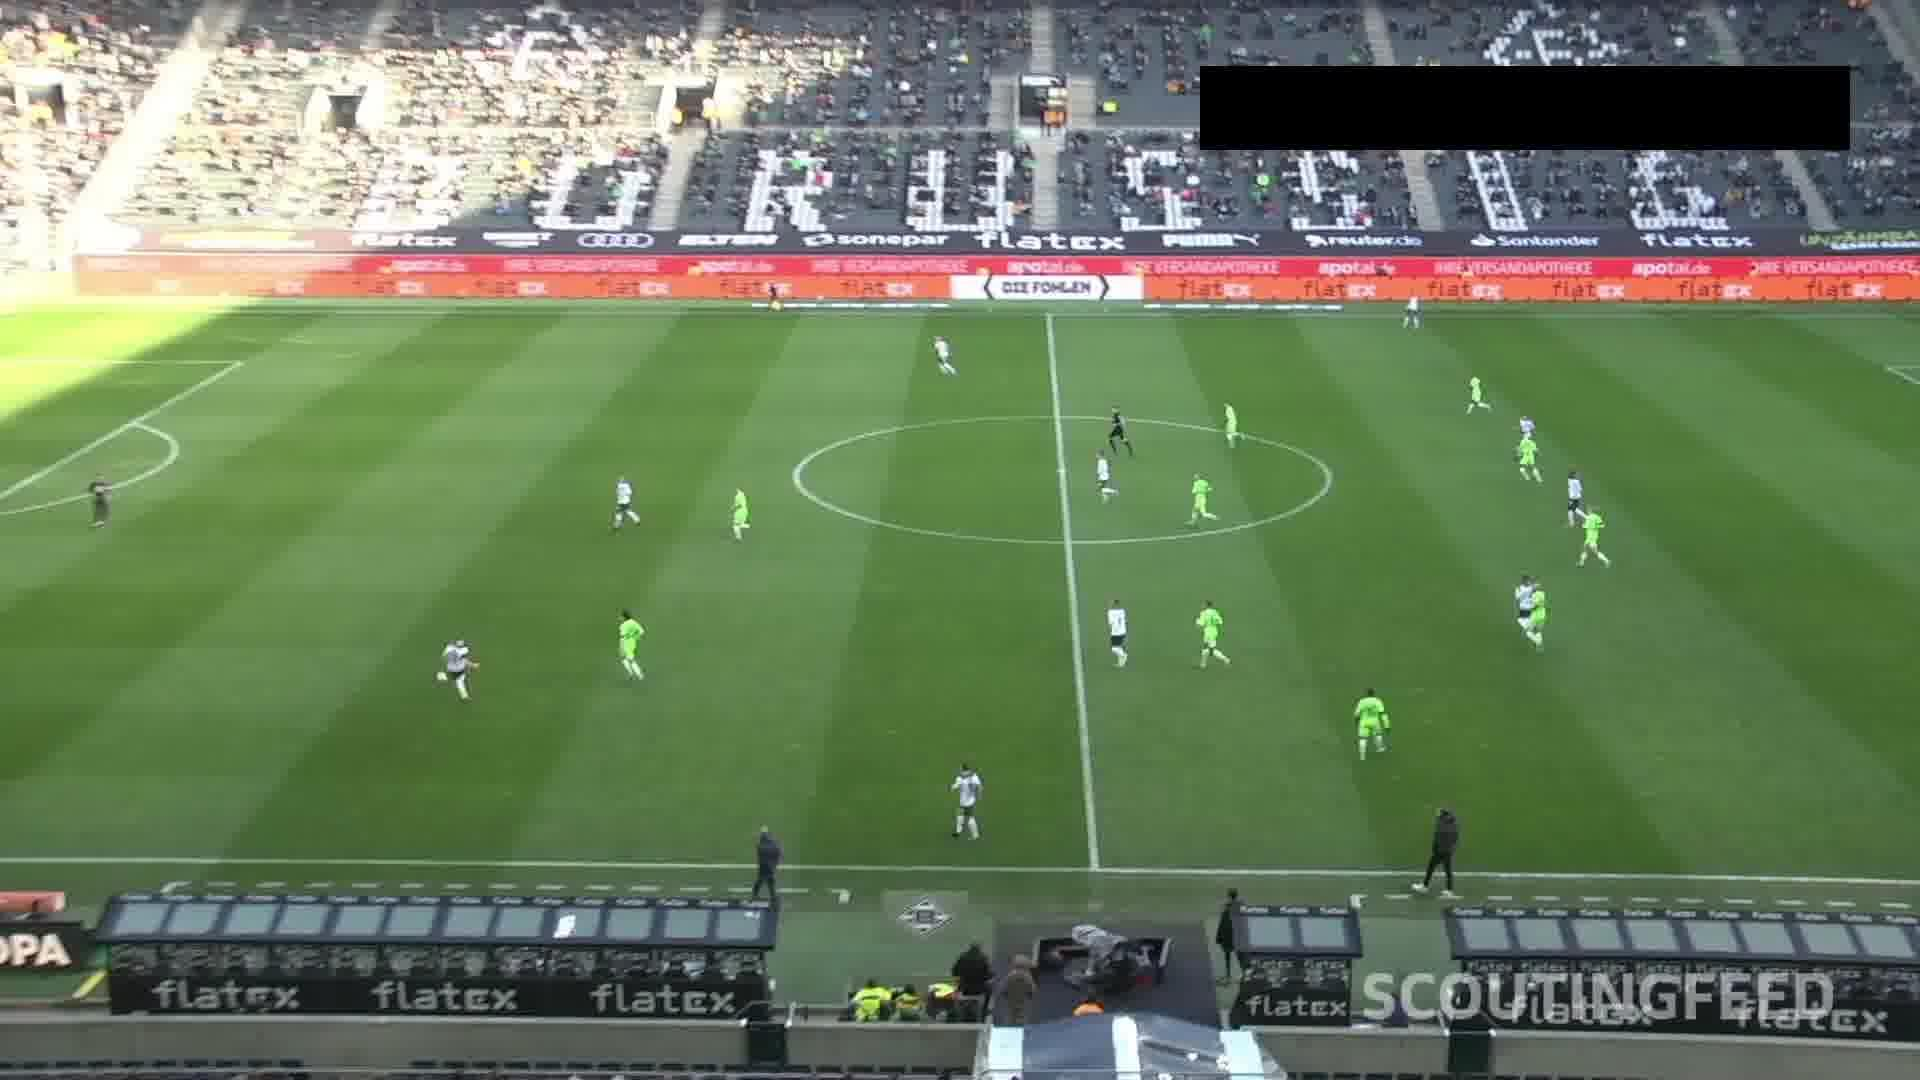football: (433, 670, 447, 683)
